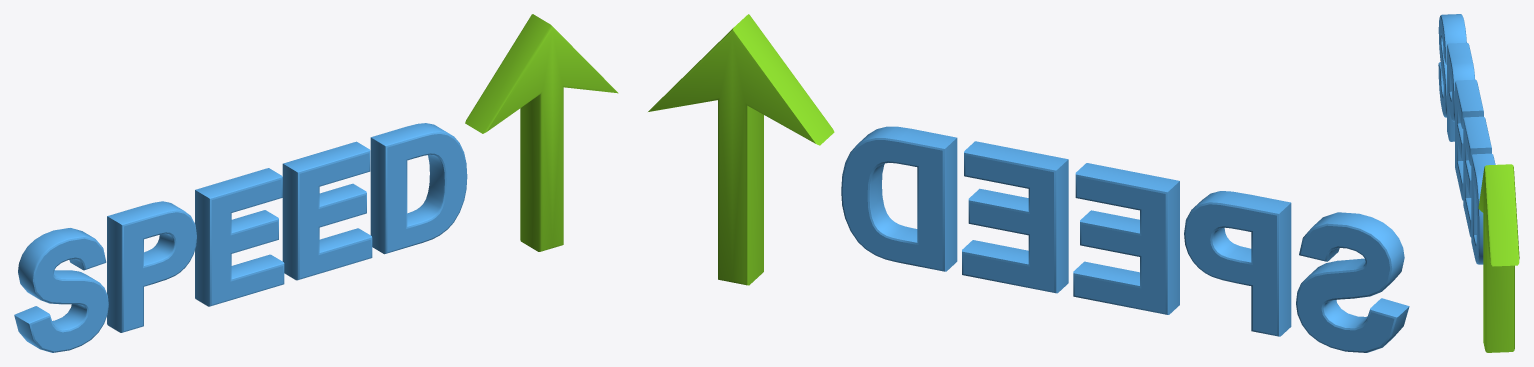
Rendered from Speed_Up.fbx.
The picture shows the model from 3 angles, left to right: view 1: azimuth 30°, elevation 25°; view 2: azimuth 150°, elevation 25°; view 3: azimuth 270°, elevation 25°; orthographic projection. The views are drawn at different scales.
Visible parts, largest first — view 1: Speed_Up; view 2: Speed_Up; view 3: Speed_Up.
Boxes of the visible parts, x1,y1,x2,y2 form: Speed_Up: (14,14,618,352); Speed_Up: (648,14,1409,352); Speed_Up: (1438,14,1519,352).
Size of the model in its own units: 111 by 38.1 by 15.33.
